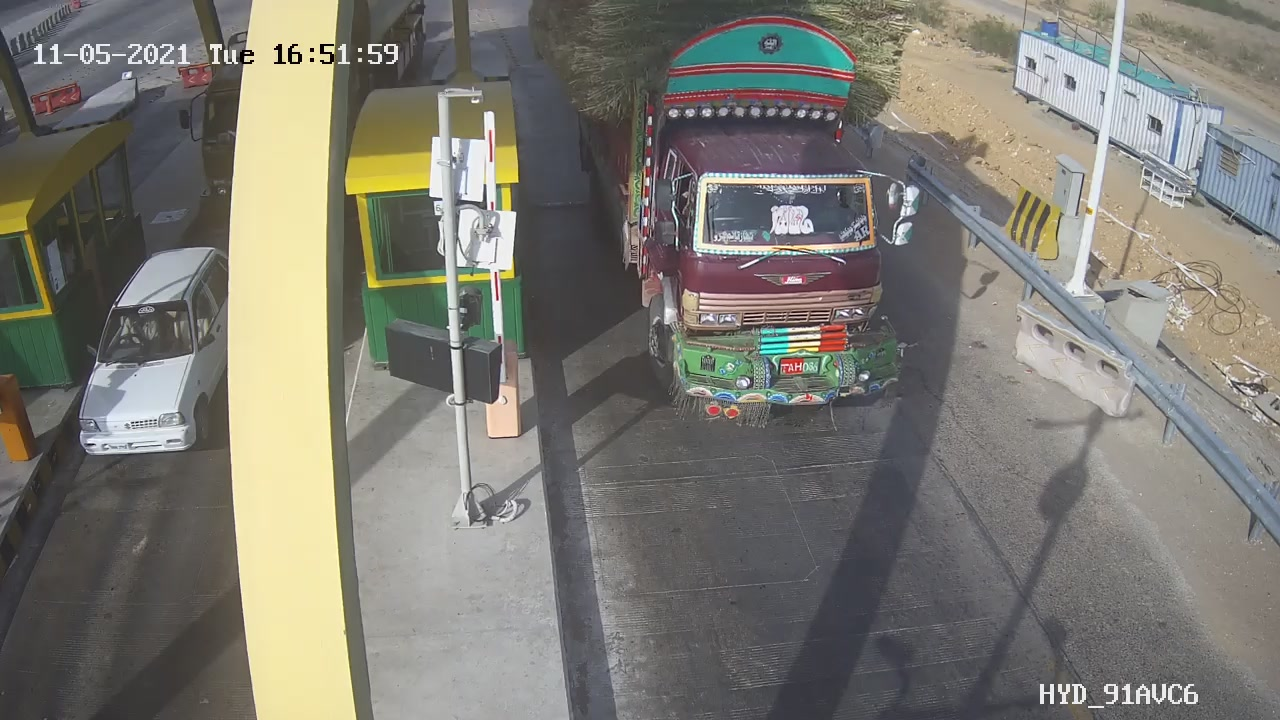F5: (547, 3, 963, 461)
